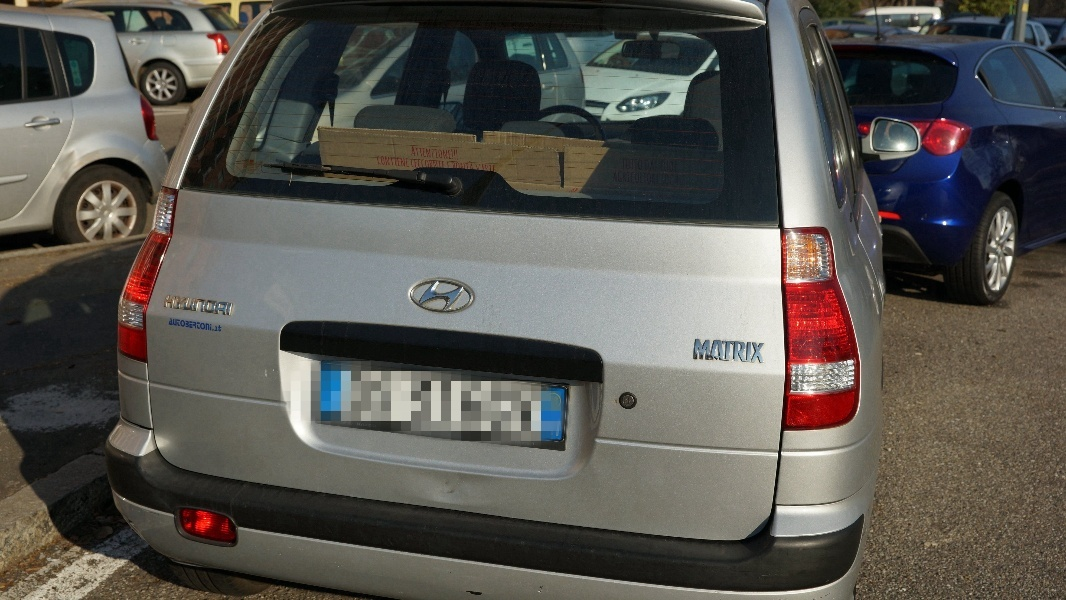text: (449, 282, 464, 312), (434, 282, 448, 312), (705, 339, 720, 363), (721, 339, 736, 363), (737, 339, 752, 363), (177, 295, 192, 316), (193, 295, 208, 316), (209, 295, 224, 316), (753, 339, 764, 363), (695, 339, 704, 363), (417, 146, 432, 160), (433, 146, 448, 160), (625, 171, 640, 185), (641, 171, 656, 185), (177, 319, 192, 332), (193, 319, 208, 332), (167, 295, 176, 316), (385, 156, 400, 168), (625, 159, 640, 171), (209, 319, 222, 332), (225, 295, 233, 316), (673, 174, 686, 186), (417, 159, 432, 169), (433, 159, 448, 169), (465, 162, 480, 172), (481, 162, 496, 172), (614, 171, 624, 185), (660, 161, 672, 172), (449, 146, 458, 160), (645, 160, 656, 171), (452, 162, 464, 172), (662, 174, 672, 186), (401, 156, 409, 168), (377, 156, 384, 168), (411, 146, 416, 160), (171, 319, 176, 332), (411, 159, 416, 169), (673, 161, 677, 172), (657, 171, 660, 185), (465, 282, 466, 312), (622, 159, 624, 171), (641, 159, 643, 171), (657, 160, 659, 171), (449, 159, 450, 169)
